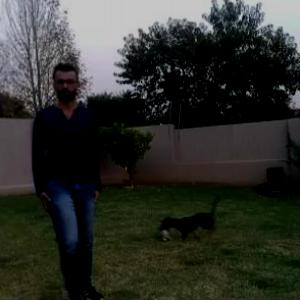follow: (33, 61, 104, 299)
